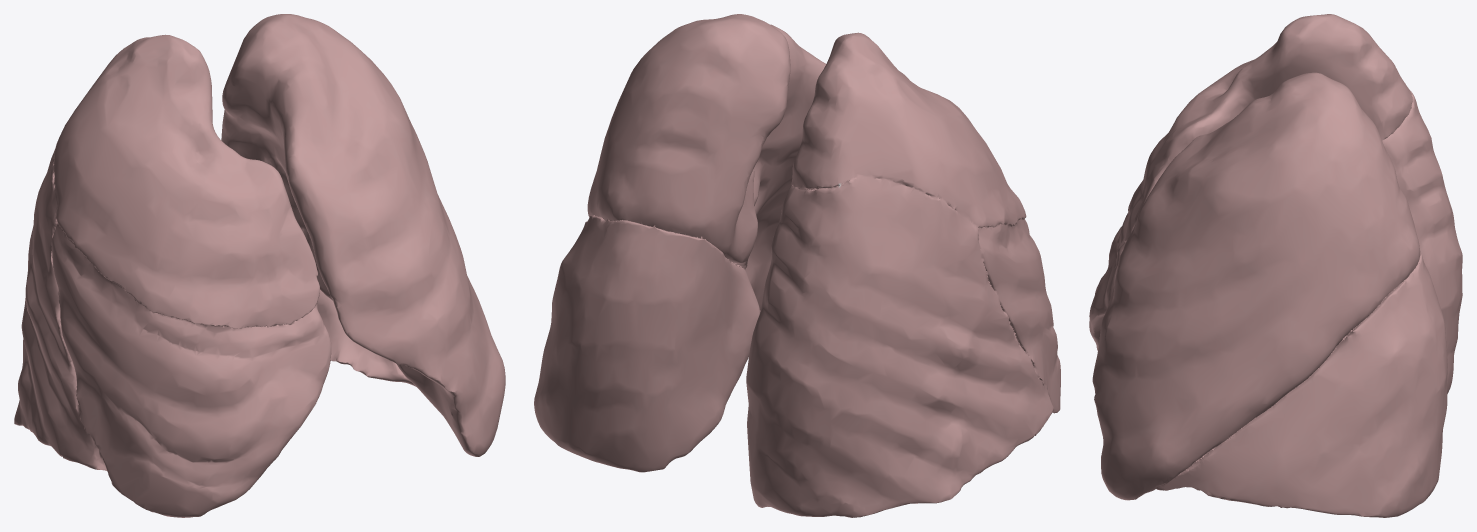
File: lung.glb
The picture shows the model from 3 angles, left to right: view 1: azimuth 30°, elevation 25°; view 2: azimuth 150°, elevation 25°; view 3: azimuth 270°, elevation 25°; orthographic projection. The views are drawn at different scales.
Visible parts, largest first — view 1: Linkerlong; view 2: Linkerlong; view 3: Linkerlong.
Part boxes in pixels (x1,y1,x2,y2): Linkerlong: (14, 14, 505, 517); Linkerlong: (534, 14, 1060, 517); Linkerlong: (1089, 14, 1462, 517).
Bounding box in the file's own units: 127 × 118 × 101.
